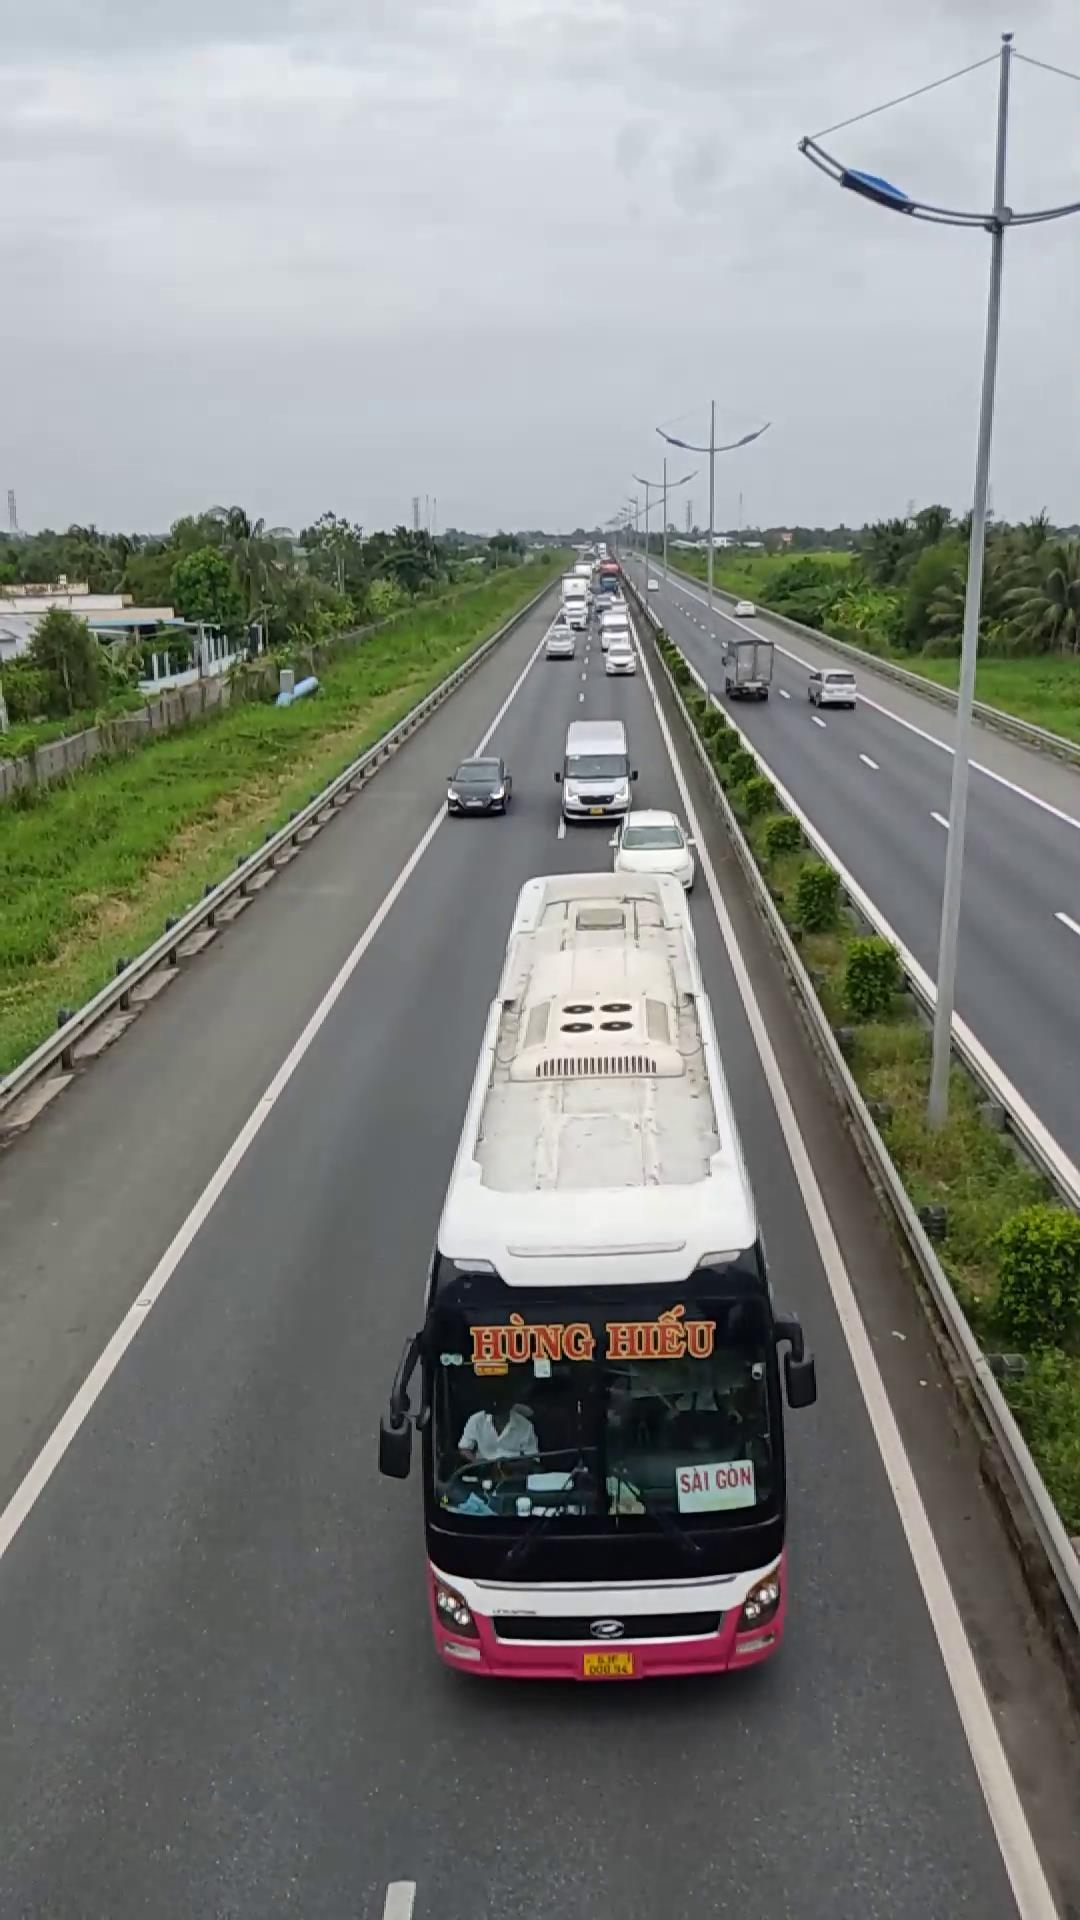bus: (387, 834, 813, 1682)
car: (554, 719, 638, 823), (444, 755, 513, 816)
